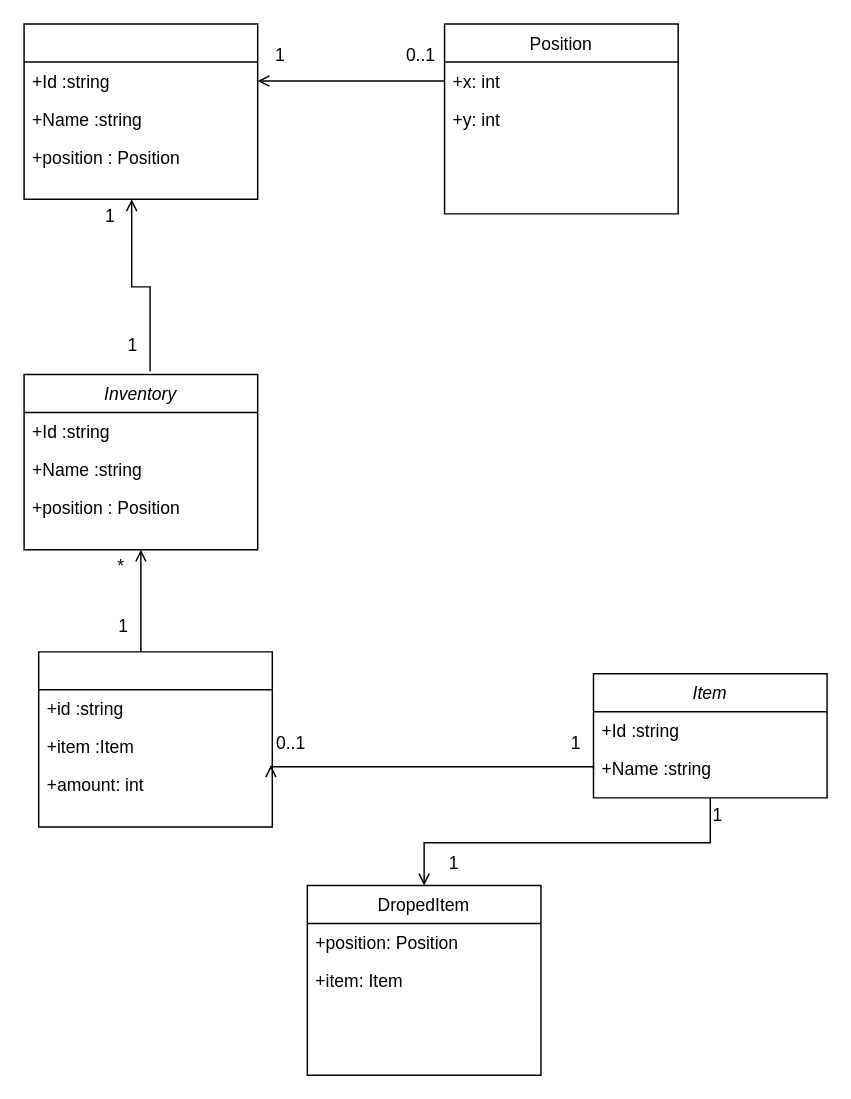
This 851x1099 diagram has some shape labels left out. The shapes that lost their labels are listed below. From the top down, each one's box as (x1, y1, x2, y2) in pixels, then its label:
(23, 23, 258, 199): Player
(37, 650, 272, 827): Slot
